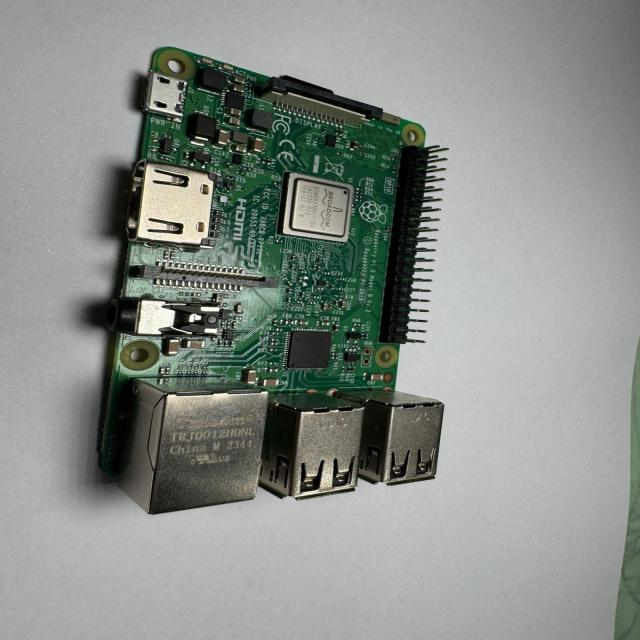CPU: (281, 172, 355, 245)
Ethernet: (138, 386, 270, 518)
GPIO: (383, 146, 449, 347)
HDMI: (132, 164, 219, 250)
RAM-3: (286, 329, 335, 371)
Raspberry: (95, 47, 447, 517)
